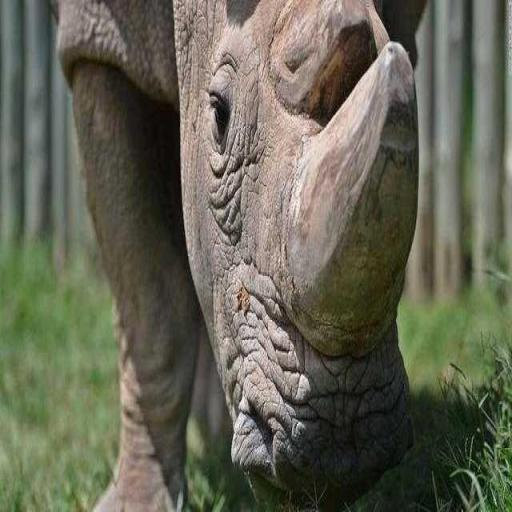Rhino: (47, 0, 428, 509)
